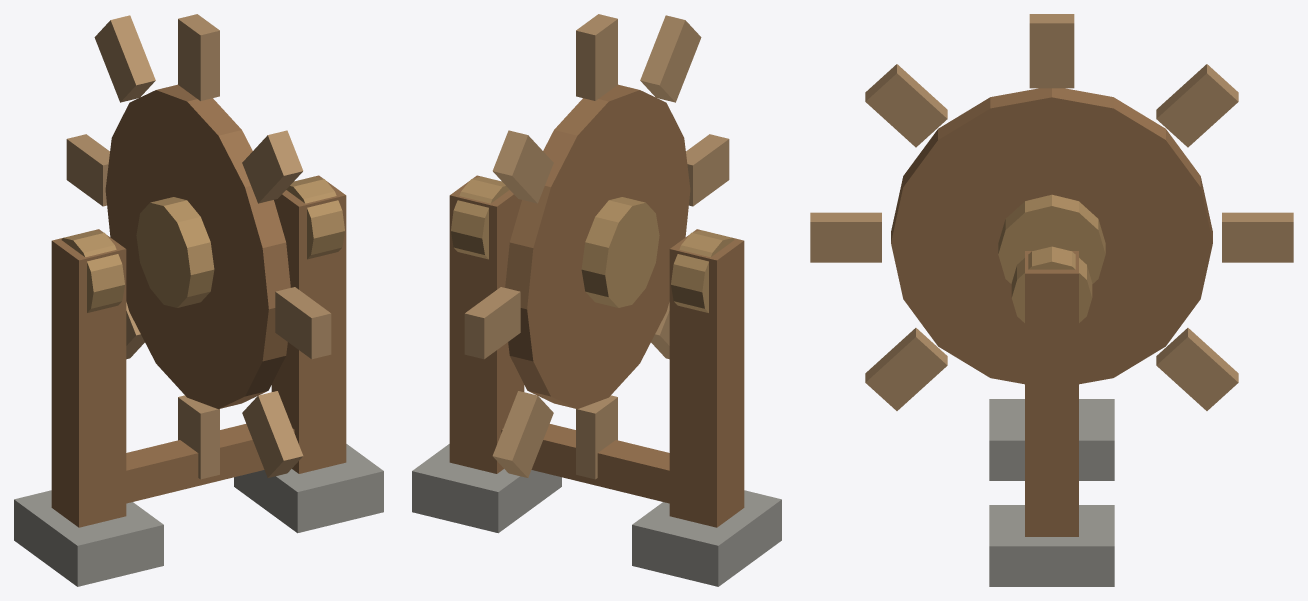
The model's file is vf_cog.glb.
The picture shows the model from 3 angles, left to right: view 1: azimuth 30°, elevation 25°; view 2: azimuth 150°, elevation 25°; view 3: azimuth 270°, elevation 25°; orthographic projection.
Visible parts, largest first — view 1: Static_Oak, Rotor_Oak, Rotor_OakLight, Static_Stone, Rotor_Bronze, Static_Bronze; view 2: Static_Oak, Rotor_Oak, Rotor_OakLight, Static_Stone, Rotor_Bronze, Static_Bronze; view 3: Rotor_Oak, Rotor_OakLight, Static_Oak, Static_Stone, Rotor_Bronze, Static_Bronze.
Part boxes in pixels (<box>): Static_Oak: <box>51,175,346,527</box>; Rotor_Oak: <box>105,84,290,409</box>; Rotor_OakLight: <box>66,14,331,479</box>; Static_Stone: <box>14,444,383,586</box>; Rotor_Bronze: <box>136,197,214,307</box>; Static_Bronze: <box>61,176,344,312</box>; Static_Oak: <box>449,175,744,527</box>; Rotor_Oak: <box>505,84,690,409</box>; Rotor_OakLight: <box>464,14,729,479</box>; Static_Stone: <box>412,444,781,586</box>; Rotor_Bronze: <box>581,197,659,307</box>; Static_Bronze: <box>451,176,734,312</box>; Rotor_Oak: <box>891,88,1212,384</box>; Rotor_OakLight: <box>810,14,1293,410</box>; Static_Oak: <box>1025,251,1078,536</box>; Static_Stone: <box>989,399,1114,586</box>; Rotor_Bronze: <box>998,194,1105,283</box>; Static_Bronze: <box>1011,246,1092,322</box>.
Size of the model in its own units: 0.78 by 1.22 by 1.08.
